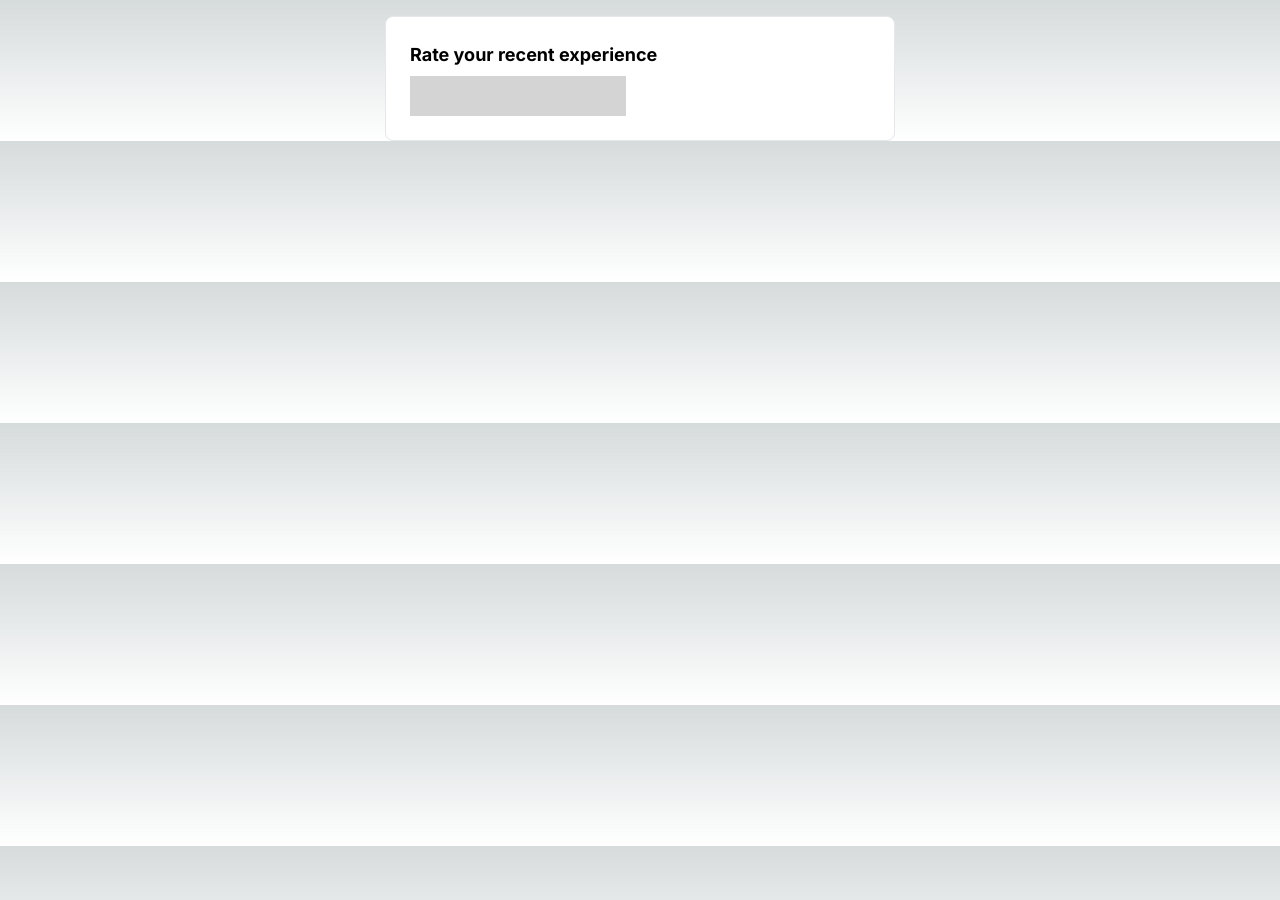
Test case: Form › should show all form when star is clicked
Click the radio button named "2 stars: poor": (474, 96) left=453, top=76, right=496, bottom=116
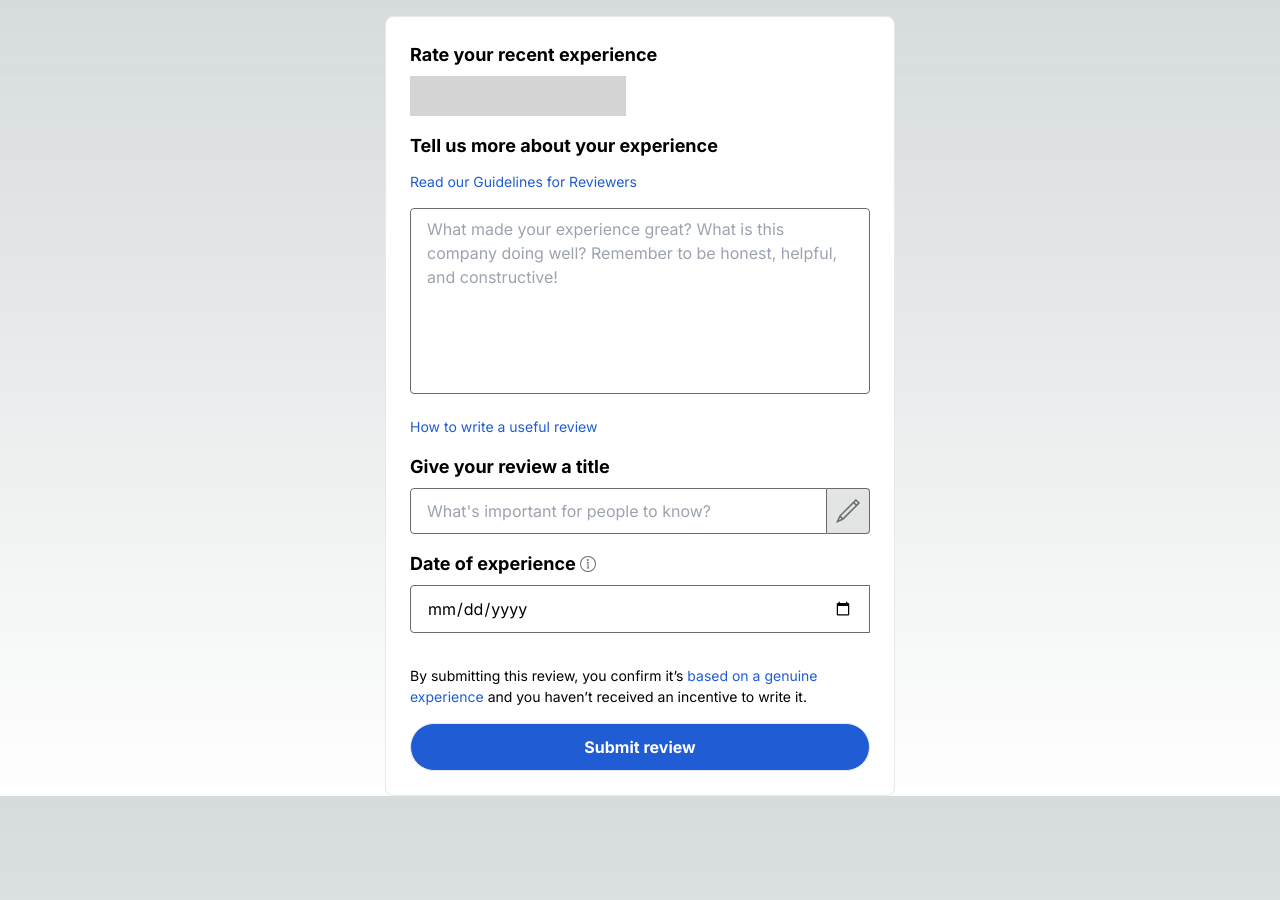
Now the text box is shown, box left=410, top=208, right=870, bottom=394
Now the field is shown, box left=410, top=488, right=827, bottom=534
Now the date field with placeholder "mm/dd/yyyy" is shown, box left=410, top=585, right=870, bottom=633
